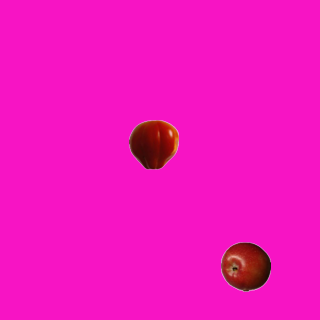Apple Braeburn: (220, 241, 270, 291)
Tomato 1: (128, 119, 178, 169)
